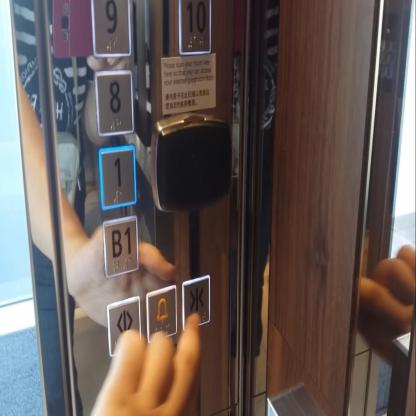1: (98, 144, 137, 209)
10: (178, 0, 211, 54)
8: (94, 68, 135, 137)
9: (89, 0, 131, 58)
B1: (101, 214, 138, 278)
alarm: (145, 284, 177, 343)
close: (181, 273, 210, 331)
open: (106, 295, 142, 356)
